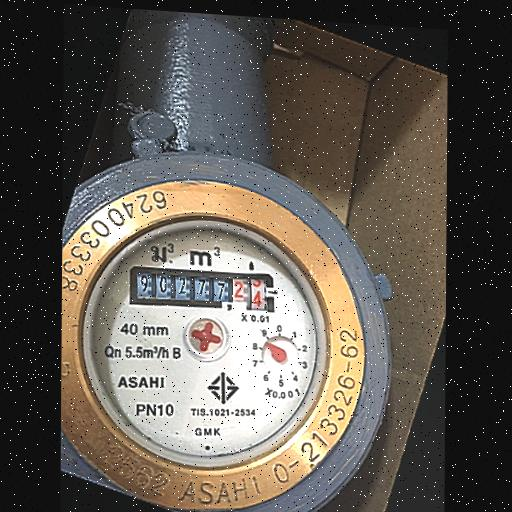0: (157, 275, 171, 299)
2: (176, 276, 190, 300), (234, 279, 246, 303)
4: (251, 278, 265, 309)
7: (195, 277, 209, 300), (215, 280, 229, 302)
9: (137, 273, 151, 298)
border_water_meter_number: (130, 264, 276, 316)
